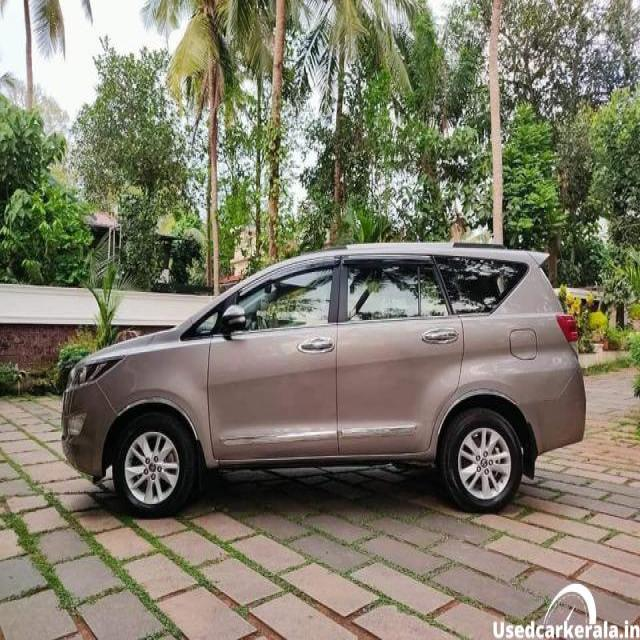light_vehicle: (60, 242, 588, 518)
